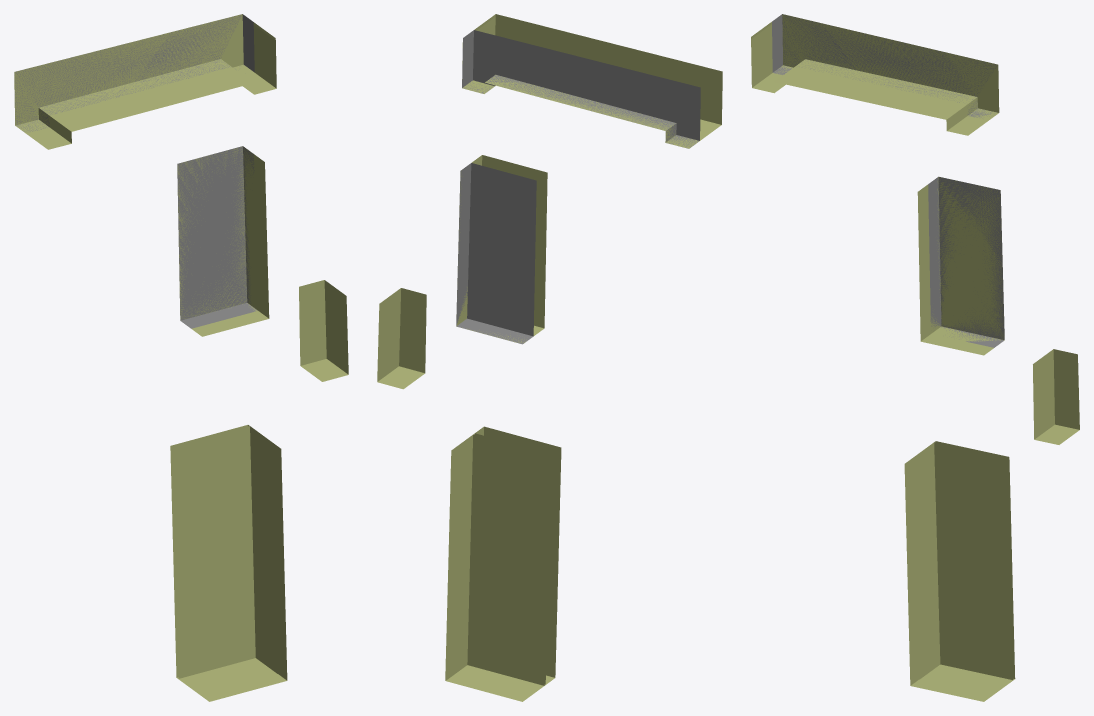
3 views of the same model, side by side, from view 1: azimuth 30°, elevation 25°; view 2: azimuth 150°, elevation 25°; view 3: azimuth 330°, elevation 25° (orthographic). The views are drawn at different scales.
Parts seen in each view (by area): view 1: 0_1_2_0_3_3_1_1; view 2: 0_1_2_0_3_3_1_1; view 3: 0_1_2_0_3_3_1_1.
Part boxes in pixels (x1,y1,x2,y2): 0_1_2_0_3_3_1_1: [14, 14, 348, 701]; 0_1_2_0_3_3_1_1: [377, 14, 722, 701]; 0_1_2_0_3_3_1_1: [751, 14, 1079, 701].
Size of the model in its own units: 49.38 by 97.87 by 9.85.
